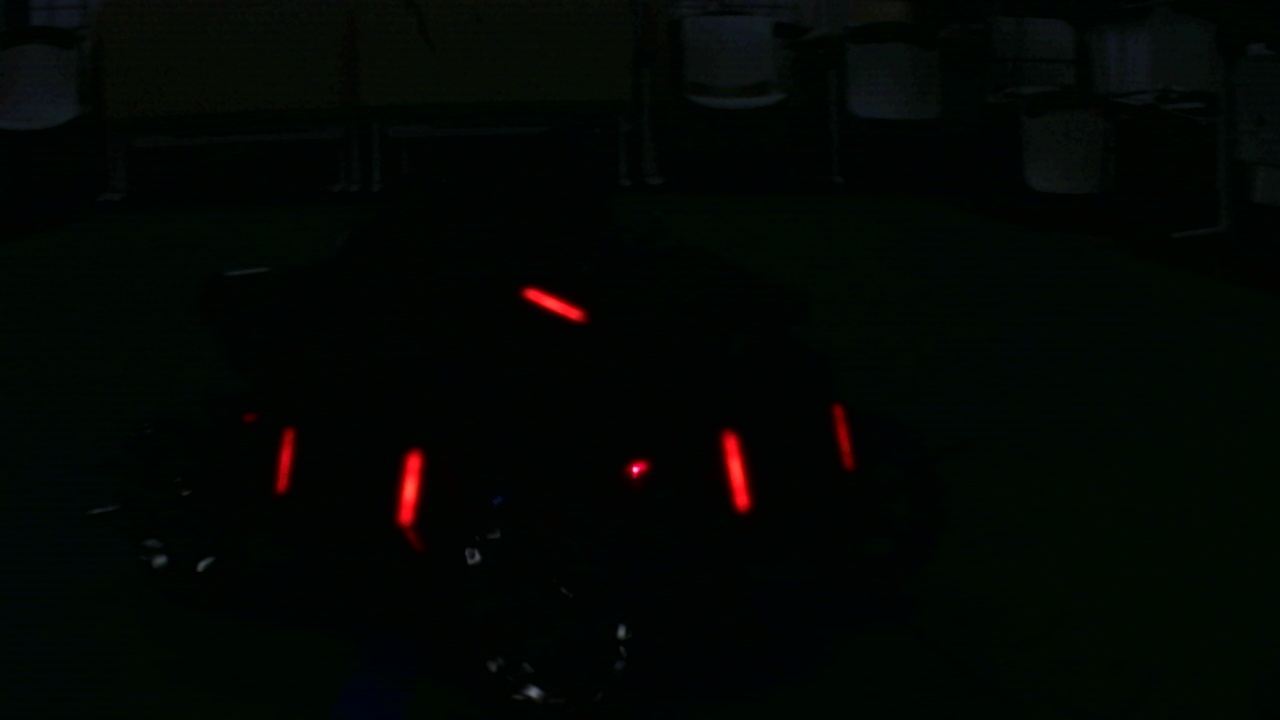lamp: (716, 424, 752, 515), (395, 427, 424, 532), (271, 429, 296, 499)
notpair1: (397, 428, 754, 537)
pair1: (271, 429, 424, 528)
